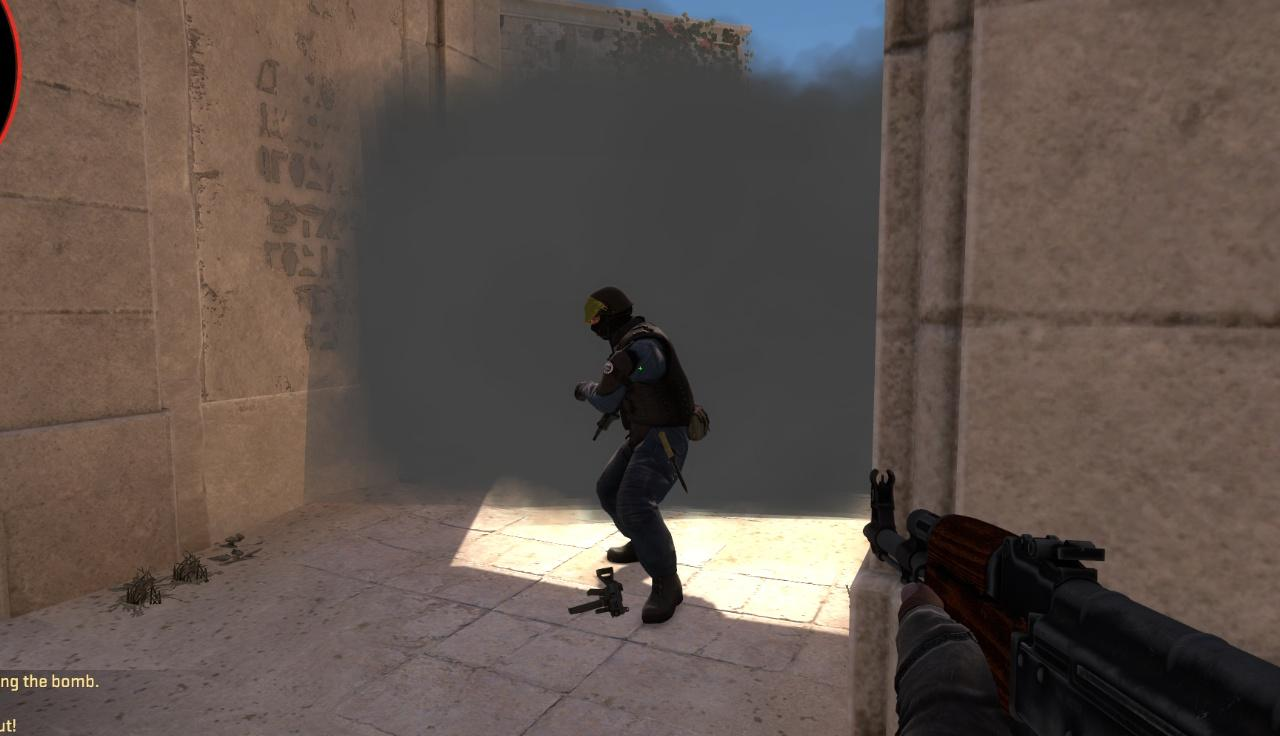ct: (580, 286, 687, 623)
cthead: (583, 287, 632, 340)
rifle: (860, 466, 1280, 736)
